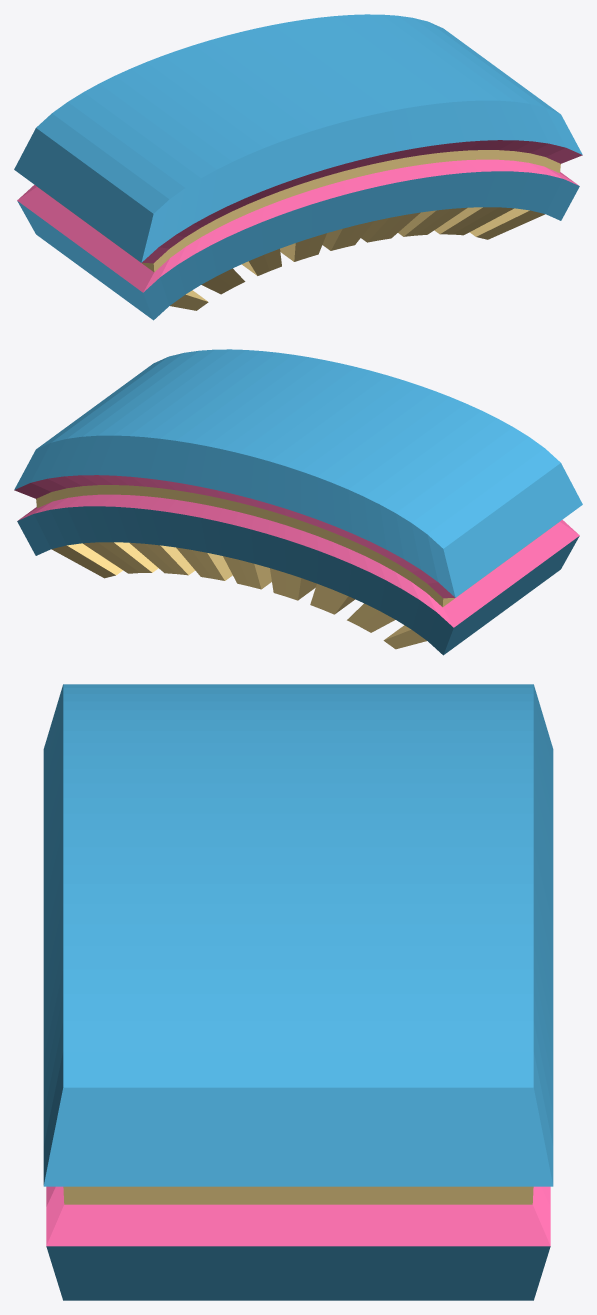
3 views of the same model, one above another, from view 1: azimuth 30°, elevation 25°; view 2: azimuth 150°, elevation 25°; view 3: azimuth 270°, elevation 25° (orthographic). The views are drawn at different scales.
Parts seen in each view (by area): view 1: Paddle; view 2: Paddle; view 3: Paddle.
Boxes of the visible parts, box(x1,y1,x2,y2) form: Paddle: box(14, 14, 582, 320); Paddle: box(14, 349, 582, 655); Paddle: box(43, 684, 553, 1300).
Bounding box in the file's own units: 4.33 × 1.58 × 2.17.
